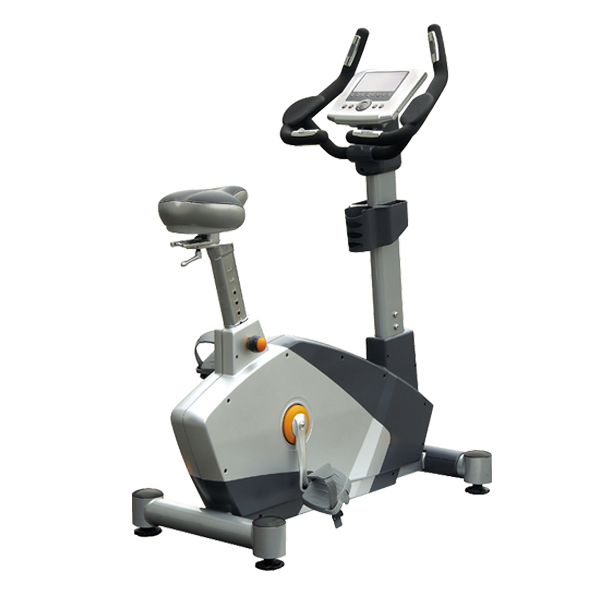gym_bike: (107, 11, 505, 574)
